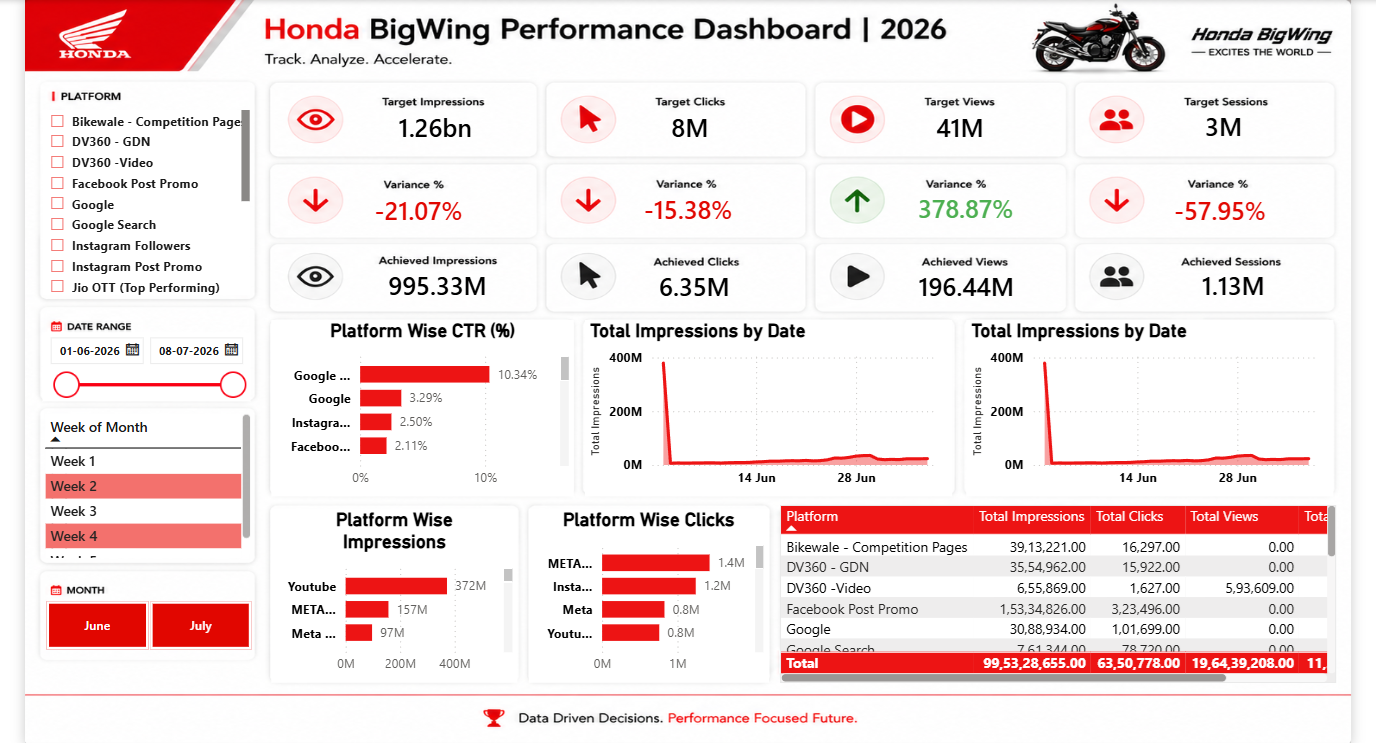

Layout of this report page (visuals, bound fields, positions):
{"tool":"powerbi","page":{"name":"Page 3","canvas":[1280,720],"ordinal":0},"visuals":[{"type":"lineChart","fields":{"Category":["DateTable.Date"],"Y":["Data.Total Impressions"]},"box":[908.4,308.8,354.7,170.1],"z":0},{"type":"slicer","fields":{"Values":["DateTable.Month"]},"box":[0,577.9,237.7,50.7],"z":1000},{"type":"lineChart","fields":{"Category":["DateTable.Date"],"Y":["Data.Total Impressions"]},"box":[540.5,308.8,354.7,170.1],"z":2000},{"type":"barChart","title":"Platform Wise CTR (%)","fields":{"Category":["Data.Platform"],"Y":["Data.CTR %"]},"box":[237.7,308.8,292,170.1],"z":3000},{"type":"barChart","title":"Platform Wise Impressions","fields":{"Category":["Data.Platform"],"Y":["Sum(Data.Impressions)"]},"box":[237.7,491,237.7,167.7],"z":4000},{"type":"clusteredBarChart","title":"Platform Wise Clicks","fields":{"Category":["Data.Platform"],"Y":["Data.Total Clicks"]},"box":[486.2,491,231.6,167.7],"z":5000},{"type":"tableEx","fields":{"Values":["Data.Platform","Data.Total Impressions","Data.Total Clicks","Data.Total Views","Data.Total Sessions","Data.CTR %"]},"box":[728.7,487.4,536.9,171.3],"z":6000},{"type":"cardVisual","fields":{"Data":["Data.Gap % Impressions"]},"box":[284.7,171.3,190.6,60.3],"z":7000},{"type":"cardVisual","fields":{"Data":["Data.Gap % Clicks"]},"box":[542.9,143.6,194.2,115.8],"z":8000},{"type":"cardVisual","fields":{"Data":["Data.Gap % Views"]},"box":[808.3,158,199.1,85.7],"z":9000},{"type":"cardVisual","fields":{"Data":["Data.Gap % Sessions"]},"box":[1059.3,147.2,188.2,108.6],"z":10000},{"type":"cardVisual","fields":{"Data":["Data.Total Impressions"]},"box":[289.5,219.6,217.2,109.8],"z":11000},{"type":"cardVisual","fields":{"Data":["Sum(Data.Clicks)"]},"box":[546.5,220.8,199.1,109.8],"z":12000},{"type":"cardVisual","fields":{"Data":["Data.Total Views"]},"box":[814.3,220.8,188.2,108.6],"z":13000},{"type":"cardVisual","fields":{"Data":["Data.Total Sessions"]},"box":[1066.5,219.6,199.1,108.6],"z":14000},{"type":"cardVisual","fields":{"Data":["Data.Target Impressions"]},"box":[285.9,63.9,220.8,114.6],"z":15000},{"type":"cardVisual","fields":{"Data":["Data.Target Clicks"]},"box":[544.1,63.9,195.4,114.6],"z":16000},{"type":"cardVisual","fields":{"Data":["Data.Target Views"]},"box":[808.3,65.1,188.2,113.4],"z":17000},{"type":"cardVisual","fields":{"Data":["Data.Target Sessions"]},"box":[1059.3,63.9,195.4,113.4],"z":18000},{"type":"tableEx","fields":{"Values":["DateTable.Week of Month"]},"box":[13.3,394.5,209.9,148.4],"z":19000},{"type":"slicer","fields":{"Values":["DateTable.Date"]},"box":[16.9,320.9,200.3,66.4],"z":20000},{"type":"slicer","fields":{"Values":["Data.Platform"]},"box":[16.9,106.2,200.3,178.6],"z":21000}]}

Visuals, with their boxes on the page's 1280x720 design canvas (x1, y1, x2, y2). These are canvas units, not pixel positions in the 1376x743 screenshot, which may show the page scaled, cropped or inside an application window:
lineChart - DateTable.Date x Data.Total Impressions: (908,309,1263,479)
slicer - DateTable.Month: (0,578,238,629)
lineChart - DateTable.Date x Data.Total Impressions: (540,309,895,479)
"Platform Wise CTR (%)" barChart: (238,309,530,479)
"Platform Wise Impressions" barChart: (238,491,475,659)
"Platform Wise Clicks" clusteredBarChart: (486,491,718,659)
tableEx - Data.Platform x Data.Total Impressions: (729,487,1266,659)
cardVisual - Data.Gap % Impressions: (285,171,475,232)
cardVisual - Data.Gap % Clicks: (543,144,737,259)
cardVisual - Data.Gap % Views: (808,158,1007,244)
cardVisual - Data.Gap % Sessions: (1059,147,1248,256)
cardVisual - Data.Total Impressions: (290,220,507,329)
cardVisual - Sum(Data.Clicks): (546,221,746,331)
cardVisual - Data.Total Views: (814,221,1002,329)
cardVisual - Data.Total Sessions: (1066,220,1266,328)
cardVisual - Data.Target Impressions: (286,64,507,178)
cardVisual - Data.Target Clicks: (544,64,740,178)
cardVisual - Data.Target Views: (808,65,996,178)
cardVisual - Data.Target Sessions: (1059,64,1255,177)
tableEx - DateTable.Week of Month: (13,394,223,543)
slicer - DateTable.Date: (17,321,217,387)
slicer - Data.Platform: (17,106,217,285)
